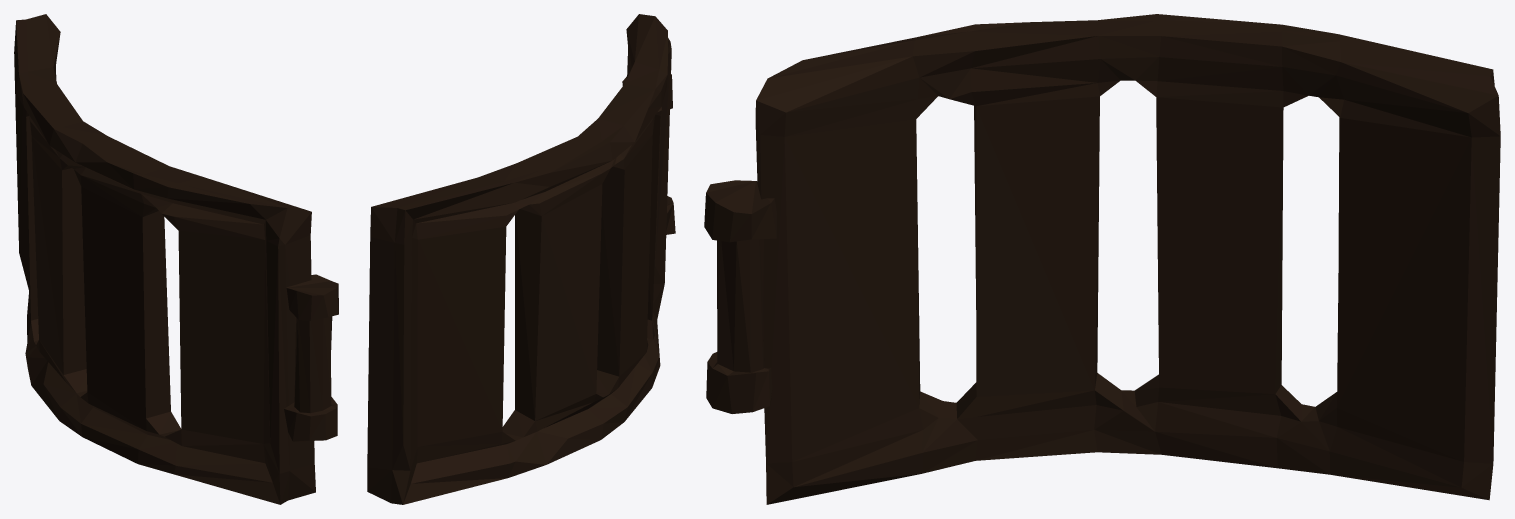
The model's file is SFFA_Stove_Door.fbx.
3 renders of one model, left to right at view 1: azimuth 30°, elevation 25°; view 2: azimuth 150°, elevation 25°; view 3: azimuth 270°, elevation 25°, orthographic. The views are drawn at different scales.
Visible parts, largest first — view 1: SFFA_Stove_Door; view 2: SFFA_Stove_Door; view 3: SFFA_Stove_Door.
Part boxes in pixels (bbox=[...]): SFFA_Stove_Door: bbox=[14, 14, 338, 504]; SFFA_Stove_Door: bbox=[367, 14, 675, 504]; SFFA_Stove_Door: bbox=[704, 14, 1500, 504].
Bounding box in the file's own units: 13.87 × 28.63 × 49.46.
